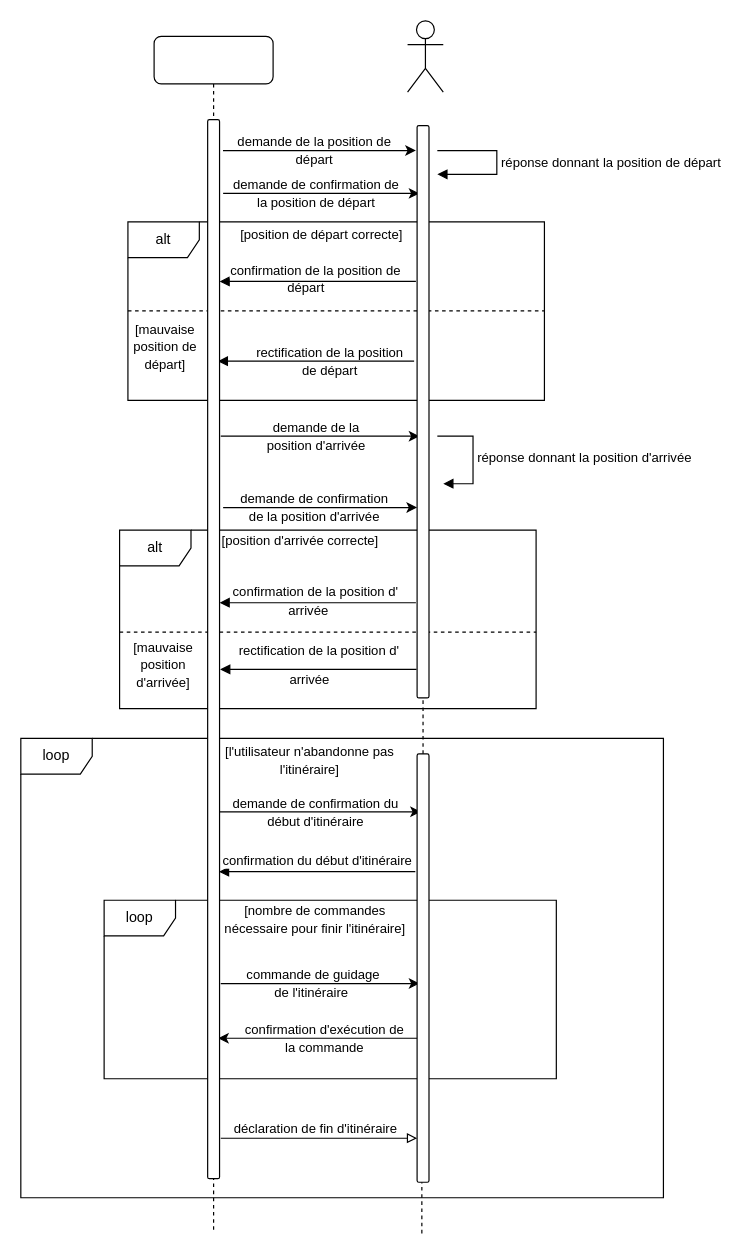
This 743x1255 diagram has some shape labels left out. Each missing label, with the centre of its shape:
"Application" goes at point (213, 634).
"Utilisateur" goes at point (424, 56).
